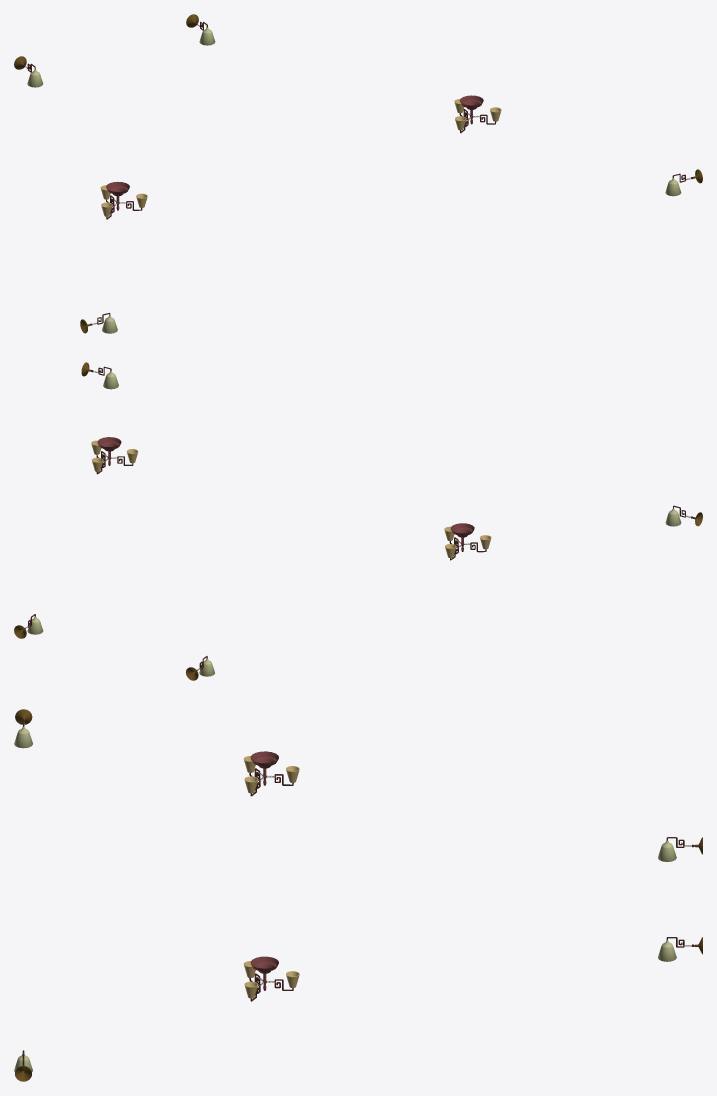
The model's file is Lamps.fbx.
3 views of the same model, one above another, from view 1: azimuth 30°, elevation 25°; view 2: azimuth 150°, elevation 25°; view 3: azimuth 270°, elevation 25° (orthographic). The views are drawn at different scales.
Visible parts, largest first — view 1: Ceiling_Lamp.002, Ceiling_Lamp.001; view 2: Ceiling_Lamp.002, Ceiling_Lamp.001; view 3: Ceiling_Lamp.001, Ceiling_Lamp.002.
Boxes of the visible parts, bbox=[...] form: Ceiling_Lamp.002: bbox=[454, 95, 501, 133]; Ceiling_Lamp.001: bbox=[100, 181, 147, 219]; Ceiling_Lamp.002: bbox=[91, 437, 138, 474]; Ceiling_Lamp.001: bbox=[444, 523, 491, 560]; Ceiling_Lamp.001: bbox=[243, 751, 299, 796]; Ceiling_Lamp.002: bbox=[243, 956, 299, 1001].
Size of the model in its own units: 1507 by 100 by 1230.
